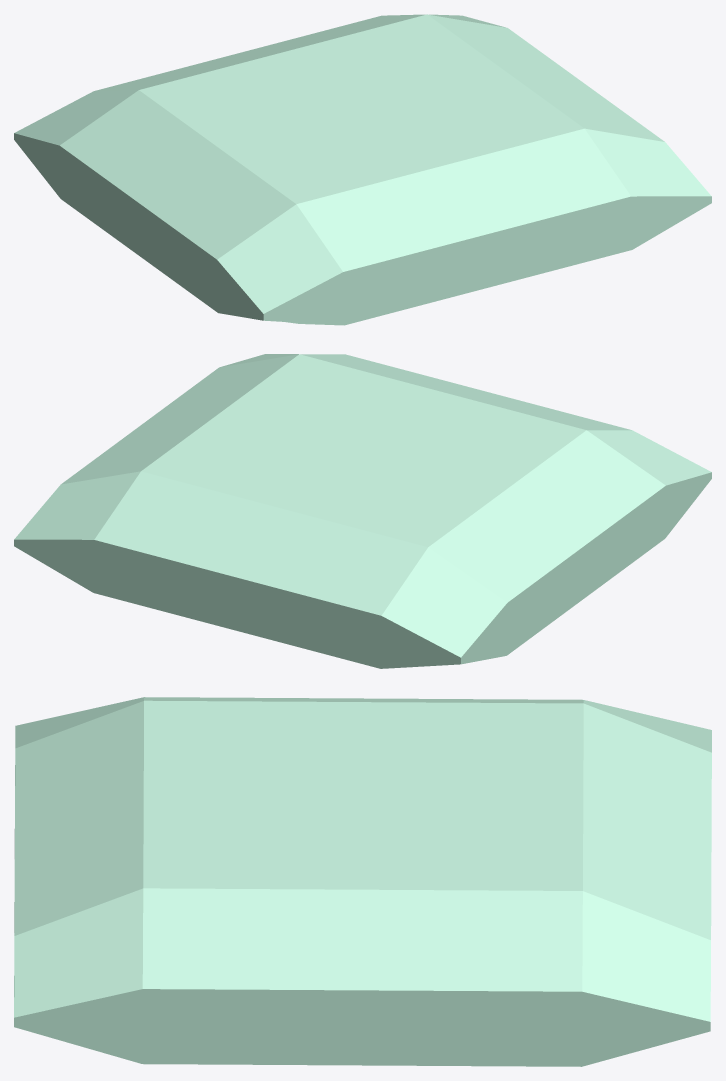
Rendered from couch_cushion_green.fbx.
3 renders of one model, top to bottom at view 1: azimuth 30°, elevation 25°; view 2: azimuth 150°, elevation 25°; view 3: azimuth 270°, elevation 25°, orthographic. The views are drawn at different scales.
Visible parts, largest first — view 1: couch_cushion_green; view 2: couch_cushion_green; view 3: couch_cushion_green.
Part boxes in pixels (x1,y1,x2,y2): couch_cushion_green: (14, 14, 711, 325); couch_cushion_green: (14, 354, 711, 668); couch_cushion_green: (14, 697, 711, 1066).
Size of the model in its own units: 50.11 by 51.8 by 14.02.
